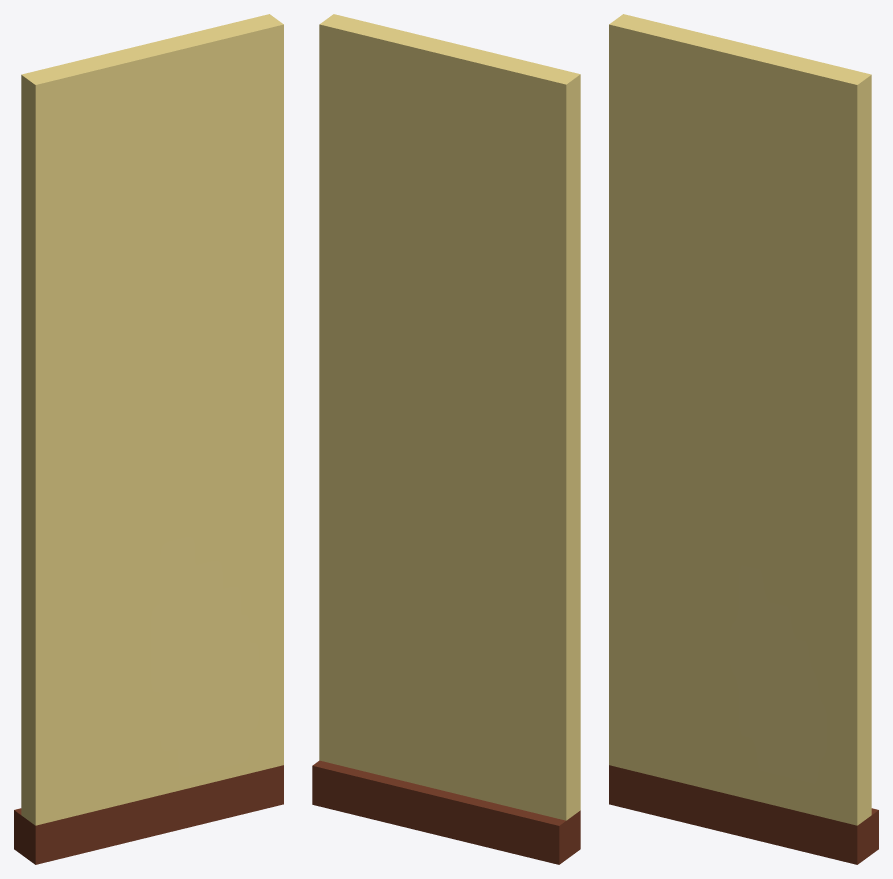
File: wall.fbx
3 views of the same model, side by side, from view 1: azimuth 30°, elevation 25°; view 2: azimuth 150°, elevation 25°; view 3: azimuth 330°, elevation 25° (orthographic).
Parts seen in each view (by area): view 1: Wall.002; view 2: Wall.002; view 3: Wall.002.
Part boxes in pixels (left/top/right/bottom): Wall.002: left=14, top=14, right=283, bottom=864; Wall.002: left=312, top=14, right=580, bottom=864; Wall.002: left=609, top=14, right=878, bottom=864.
Bounding box in the file's own units: 200 × 600 × 30.
